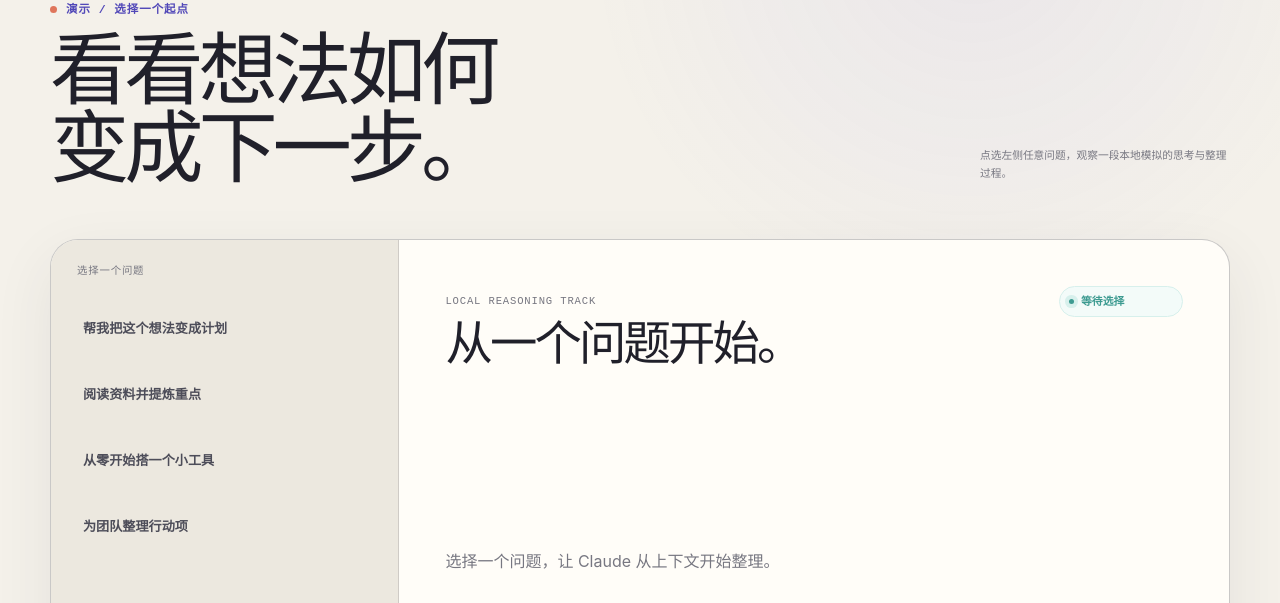
DemoConsole › clears an earlier response when another prompt is selected
Click the button "帮我把这个想法变成计划" at (225, 328), box [69,299,380,357]
Wait 800 ms
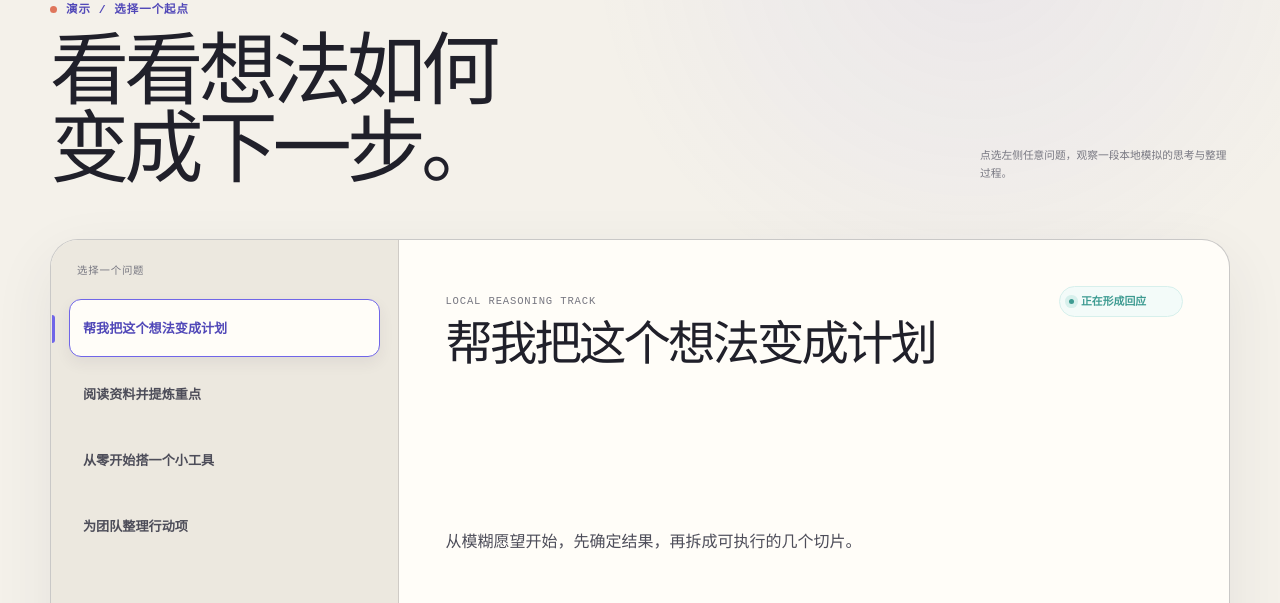
Click the button "阅读资料并提炼重点" at (142, 394), box [69,365,380,423]
Wait 3400 ms
(page scrolled)
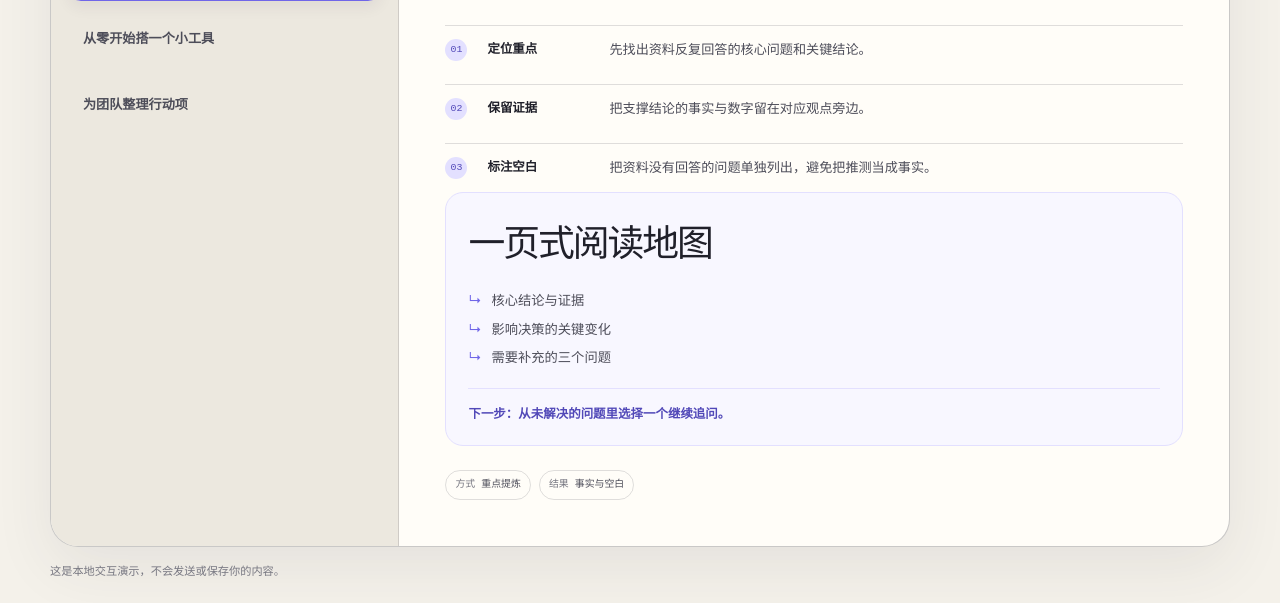
Result: the heading "一页式阅读地图" is shown at [468,223,712,264]
